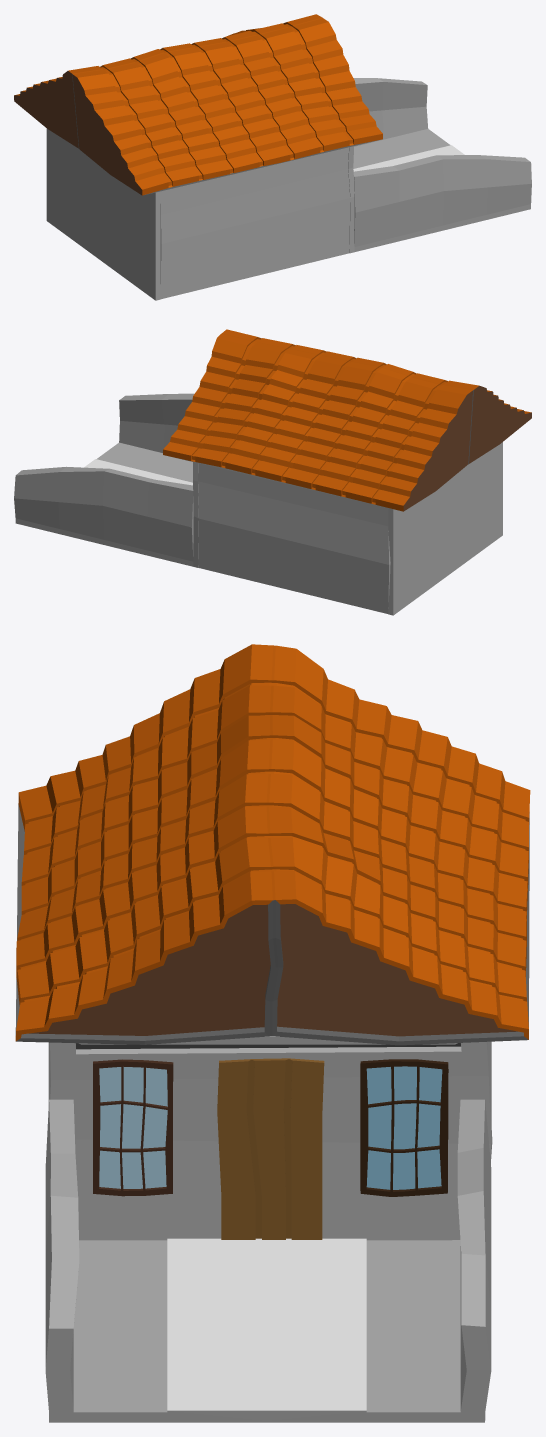
File: rumah 3.fbx
The picture shows the model from 3 angles, top to bottom: view 1: azimuth 30°, elevation 25°; view 2: azimuth 150°, elevation 25°; view 3: azimuth 270°, elevation 25°; orthographic projection. The views are drawn at different scales.
Visible parts, largest first — view 1: atap_contoh 2.002; view 2: atap_contoh 2.002; view 3: atap_contoh 2.002.
Boxes of the visible parts, x1,y1,x2,y2 form: atap_contoh 2.002: (14,14,531,300); atap_contoh 2.002: (14,329,531,615); atap_contoh 2.002: (15,644,530,1422).
Bounding box in the file's own units: 725 × 332 × 401.
